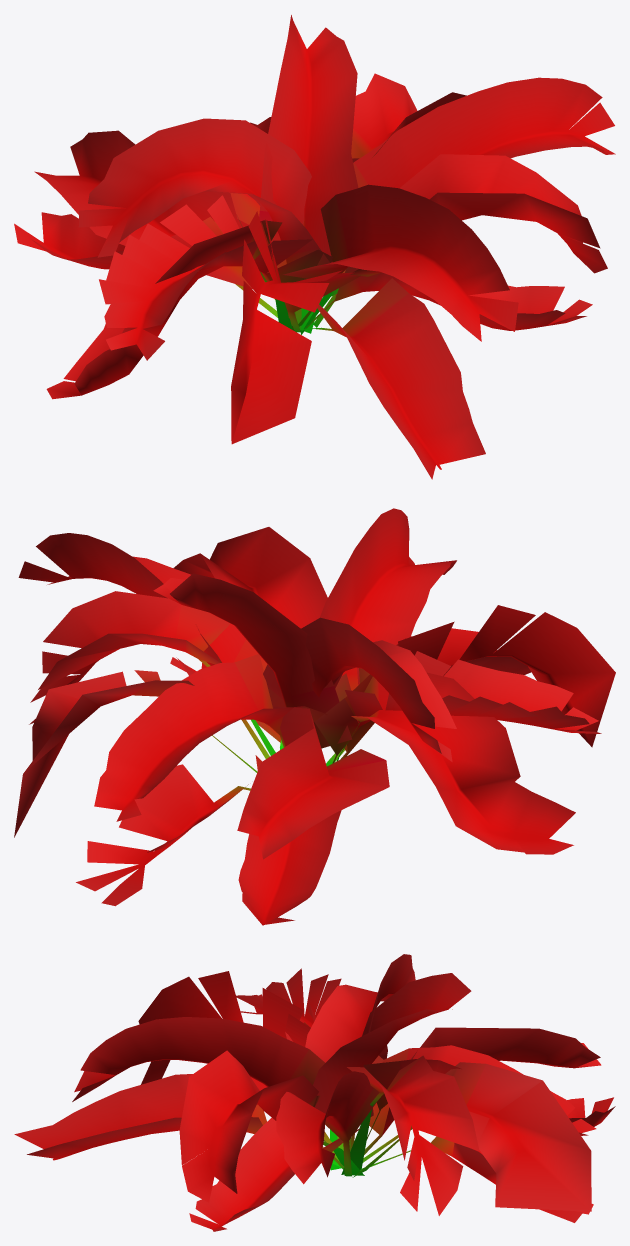
Rendered from Var5_LOD2.fbx.
The picture shows the model from 3 angles, top to bottom: view 1: azimuth 30°, elevation 25°; view 2: azimuth 150°, elevation 25°; view 3: azimuth 270°, elevation 25°; orthographic projection. The views are drawn at different scales.
Parts seen in each view (by area): view 1: _4062_Var5_LOD2; view 2: _4062_Var5_LOD2; view 3: _4062_Var5_LOD2.
Part boxes in pixels (x1=…): _4062_Var5_LOD2: x1=14, y1=15, x2=615, y2=479; _4062_Var5_LOD2: x1=14, y1=508, x2=615, y2=925; _4062_Var5_LOD2: x1=14, y1=954, x2=615, y2=1231.
Bounding box in the file's own units: 159 × 75.37 × 174.
